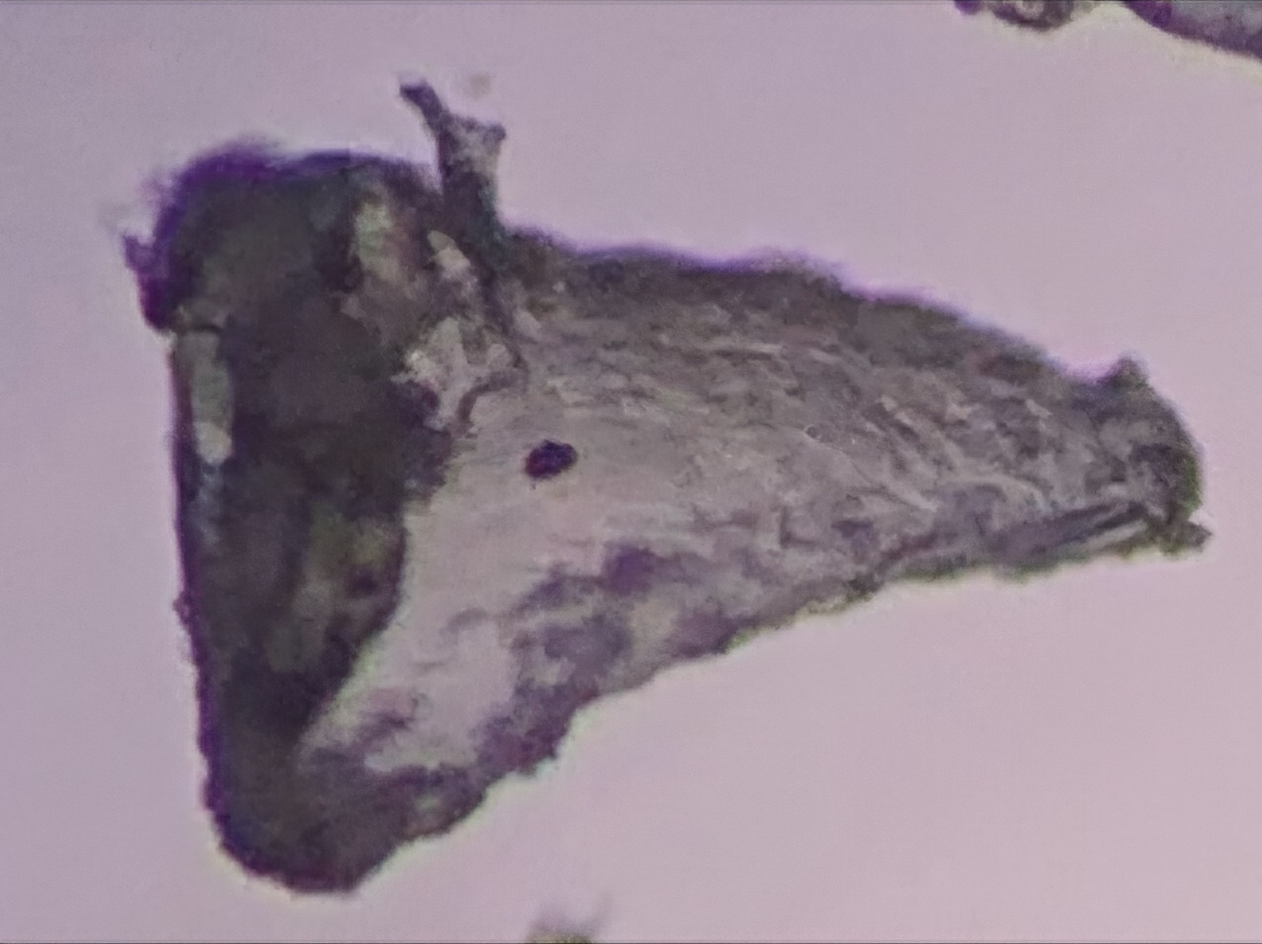microplastic: (118, 75, 1213, 901), (951, 1, 1258, 60), (519, 920, 593, 944)
